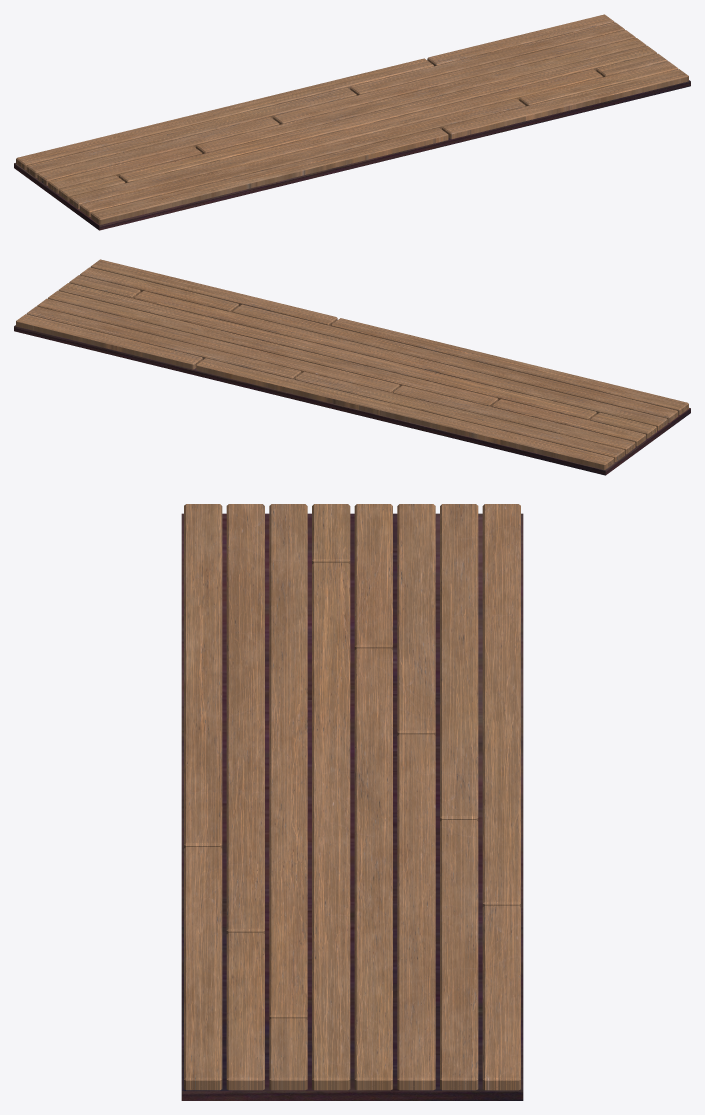
The model's file is planks_x.obj.
3 views of the same model, one above another, from view 1: azimuth 30°, elevation 25°; view 2: azimuth 150°, elevation 25°; view 3: azimuth 270°, elevation 25° (orthographic). The views are drawn at different scales.
Visible parts, largest first — view 1: Deck_board.007, Deck_board.004, Deck_board, Deck_board.009, Deck_board.002, Deck_board.014, Dark_timber_substrate, Deck_board.011, Deck_board.001, Deck_board.012, Deck_board.013, Deck_board.010 (+5 smaller); view 2: Deck_board.014, Deck_board.007, Deck_board.004, Deck_board.009, Deck_board.002, Dark_timber_substrate, Deck_board.011, Deck_board, Deck_board.012, Deck_board.013, Deck_board.015, Deck_board.001 (+5 smaller); view 3: Dark_timber_substrate, Deck_board.007, Deck_board.004, Deck_board.009, Deck_board.002, Deck_board.014, Deck_board.011, Deck_board, Deck_board.012, Deck_board.013, Deck_board.001, Deck_board.010 (+5 smaller).
Part boxes in pixels (<box>): Deck_board.007: <box>119,45,656,183</box>; Deck_board.004: <box>69,69,602,209</box>; Deck_board: <box>90,128,448,224</box>; Deck_board.009: <box>196,38,646,153</box>; Deck_board.002: <box>80,98,525,216</box>; Deck_board.014: <box>16,58,433,169</box>; Dark_timber_substrate: <box>14,80,690,230</box>; Deck_board.011: <box>273,30,635,124</box>; Deck_board.001: <box>442,69,688,138</box>; Deck_board.012: <box>26,87,356,177</box>; Deck_board.013: <box>350,22,624,95</box>; Deck_board.010: <box>37,117,279,185</box>; Deck_board.014: <box>196,358,614,469</box>; Deck_board.007: <box>58,283,596,420</box>; Deck_board.004: <box>134,291,667,430</box>; Deck_board.009: <box>48,290,498,406</box>; Deck_board.002: <box>232,304,678,422</box>; Dark_timber_substrate: <box>14,325,690,475</box>; Deck_board.011: <box>37,298,399,393</box>; Deck_board: <box>331,318,688,414</box>; Deck_board.012: <box>295,371,624,461</box>; Deck_board.013: <box>26,306,301,379</box>; Deck_board.015: <box>16,314,202,369</box>; Deck_board.001: <box>90,259,337,325</box>; Dark_timber_substrate: <box>181,513,523,1100</box>; Deck_board.007: <box>312,562,350,1090</box>; Deck_board.004: <box>269,504,307,1019</box>; Deck_board.009: <box>354,648,392,1090</box>; Deck_board.002: <box>226,504,264,933</box>; Deck_board.014: <box>482,504,520,906</box>; Deck_board.011: <box>397,734,435,1090</box>; Deck_board: <box>184,504,222,848</box>; Deck_board.012: <box>440,504,478,821</box>; Deck_board.013: <box>440,820,478,1090</box>; Deck_board.001: <box>184,847,222,1090</box>; Deck_board.010: <box>397,504,435,735</box>.
Bounding box in the file's own units: 128 × 2.2 × 32.
2 materials, 2 textured.
